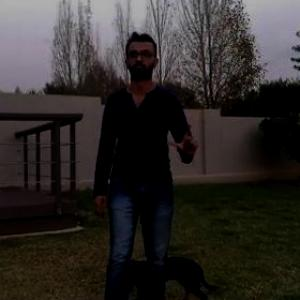land_hand: (167, 117, 202, 160)
